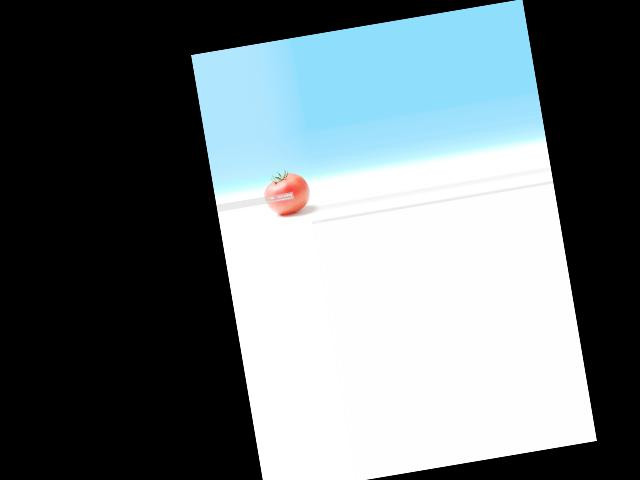tomato: (260, 170, 312, 216)
